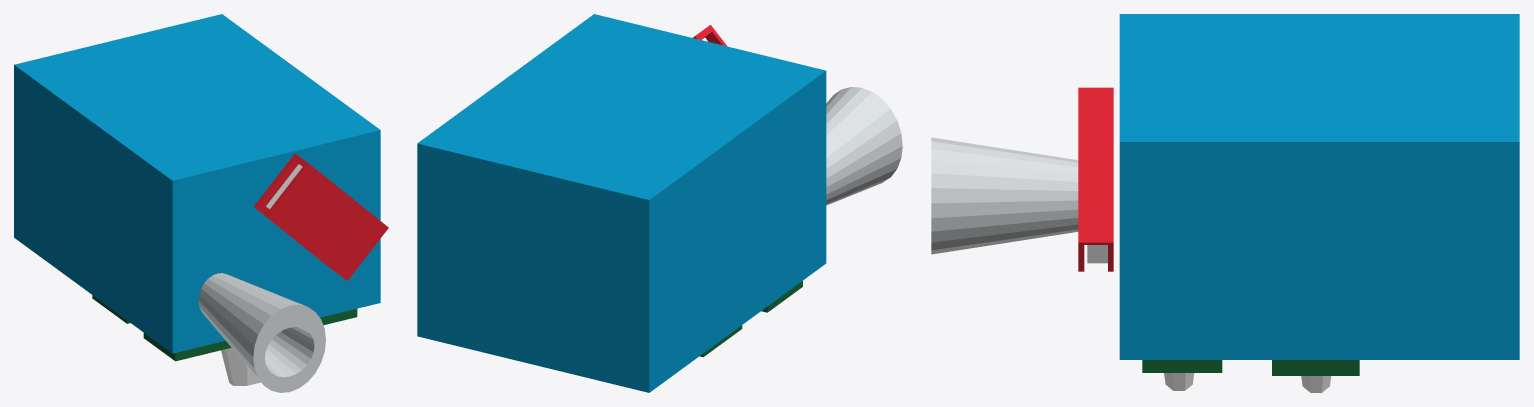
File: tinker.obj
The picture shows the model from 3 angles, left to right: view 1: azimuth 30°, elevation 25°; view 2: azimuth 150°, elevation 25°; view 3: azimuth 270°, elevation 25°; orthographic projection. The views are drawn at different scales.
Parts seen in each view (by area): view 1: group_0_40919, group_0_14541540, group_0_15277357, group_0_1206582, group_0_16448250; view 2: group_0_40919, group_0_14541540, group_0_1206582; view 3: group_0_40919, group_0_14541540, group_0_15277357, group_0_1206582, group_0_16448250.
Boxes of the visible parts, x1,y1,x2,y2 form: group_0_40919: (14, 14, 380, 353); group_0_14541540: (198, 273, 325, 392); group_0_15277357: (253, 153, 388, 280); group_0_1206582: (92, 295, 357, 361); group_0_16448250: (221, 164, 302, 385); group_0_40919: (417, 14, 826, 392); group_0_14541540: (826, 87, 902, 205); group_0_1206582: (700, 281, 802, 357); group_0_40919: (1119, 14, 1519, 359); group_0_14541540: (931, 137, 1078, 254); group_0_15277357: (1078, 87, 1113, 271); group_0_1206582: (1142, 360, 1359, 375); group_0_16448250: (1087, 245, 1331, 392).
Bounding box in the file's own units: 103 × 114 × 200.
